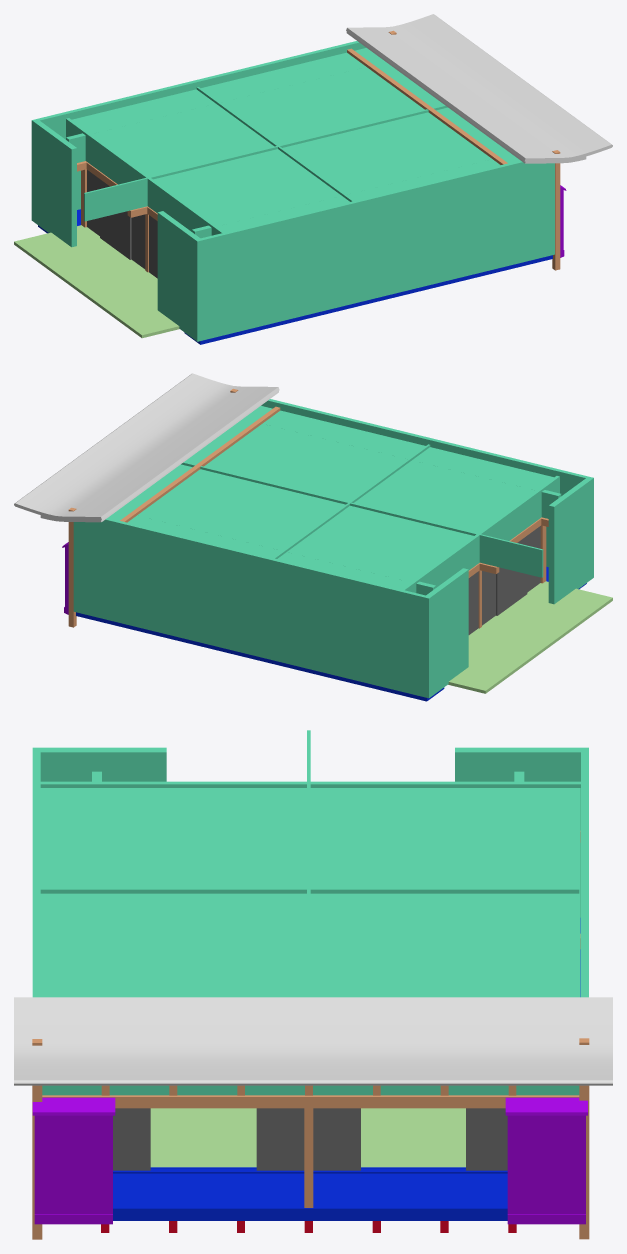
File: wahuu_ie.fbx
3 renders of one model, top to bottom at view 1: azimuth 30°, elevation 25°; view 2: azimuth 150°, elevation 25°; view 3: azimuth 270°, elevation 25°, orthographic. The views are drawn at different scales.
Visible parts, largest first — view 1: Cube.075, Cube.022, Cube.080, Cube.023, Cube.014, Cube.028, Cube.029, Cube.003, Cube.053, Cube.010, Cube.017, Cube.065 (+6 smaller); view 2: Cube.075, Cube.023, Cube.080, Cube.022, Cube.014, Cube.029, Cube.028, Cube.003, Cube.017, Cube.010, Cube.053, Cube.072 (+6 smaller); view 3: Cube.075, Cube.080, Cube.003, Cube.020, Cube.082, Cube.014, Cube.022, Cube.023, Cube.015, Cube.004, Cube.005, Cube.026 (+14 smaller).
Part boxes in pixels (x1=…): Cube.075: x1=72, y1=48, x2=519, y2=232; Cube.022: x1=157, y1=160, x2=554, y2=341; Cube.080: x1=346, y1=14, x2=612, y2=161; Cube.023: x1=31, y1=41, x2=366, y2=247; Cube.014: x1=66, y1=87, x2=447, y2=235; Cube.028: x1=14, y1=232, x2=134, y2=290; Cube.029: x1=78, y1=274, x2=179, y2=338; Cube.003: x1=38, y1=209, x2=552, y2=344; Cube.053: x1=66, y1=65, x2=365, y2=162; Cube.010: x1=347, y1=48, x2=507, y2=164; Cube.017: x1=192, y1=157, x2=492, y2=238; Cube.065: x1=131, y1=214, x2=145, y2=269; Cube.075: x1=108, y1=406, x2=553, y2=589; Cube.023: x1=73, y1=518, x2=468, y2=698; Cube.080: x1=14, y1=373, x2=279, y2=520; Cube.022: x1=261, y1=399, x2=593, y2=604; Cube.014: x1=181, y1=444, x2=559, y2=592; Cube.029: x1=493, y1=588, x2=612, y2=646; Cube.028: x1=448, y1=630, x2=549, y2=693; Cube.003: x1=76, y1=566, x2=586, y2=701; Cube.017: x1=262, y1=421, x2=561, y2=518; Cube.010: x1=120, y1=406, x2=280, y2=522; Cube.053: x1=137, y1=513, x2=435, y2=595; Cube.072: x1=496, y1=567, x2=512, y2=615; Cube.075: x1=40, y1=788, x2=580, y2=997; Cube.080: x1=14, y1=997, x2=612, y2=1085; Cube.003: x1=113, y1=918, x2=580, y2=1220; Cube.020: x1=34, y1=1115, x2=112, y2=1224; Cube.082: x1=507, y1=1115, x2=585, y2=1224; Cube.014: x1=40, y1=730, x2=580, y2=997; Cube.022: x1=32, y1=747, x2=166, y2=997; Cube.023: x1=455, y1=747, x2=588, y2=997; Cube.015: x1=256, y1=1108, x2=360, y2=1170; Cube.004: x1=42, y1=1095, x2=579, y2=1108; Cube.005: x1=42, y1=1085, x2=579, y2=1095; Cube.026: x1=150, y1=1121, x2=256, y2=1167.
Size of the model in its own units: 89.21 by 23.79 by 61.69.
